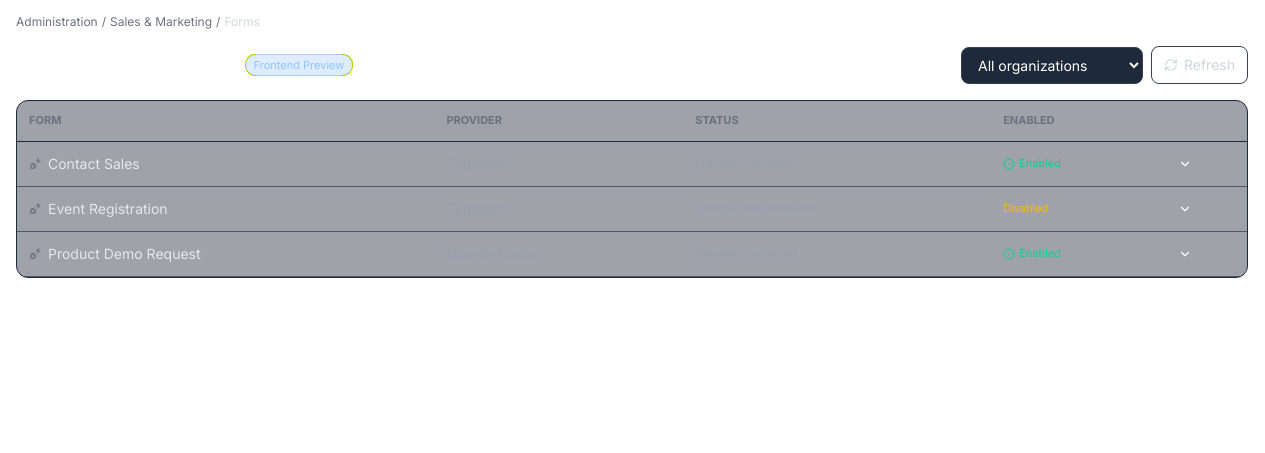
Test: SalesFormsIntegration › shows a clear reason when a required field is still unmapped, ahead of clicking Enable Form
The width and height of the screenshot is (1265, 453).
Click the row "Event Registration Typeform Configuration Required Disabled". click: [632, 209]
box: top-left (17, 186), bottom-right (1247, 231)
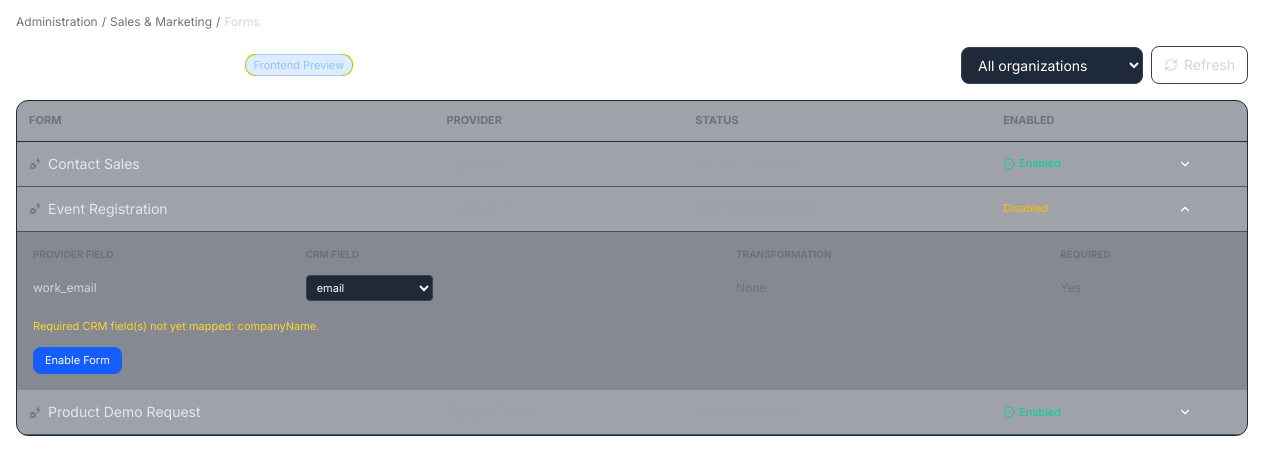
Now the text "Required CRM field(s) not yet mapped: companyName." is shown, box top-left (33, 319), bottom-right (319, 333)
Now the button "Enable Form" is shown, box top-left (33, 347), bottom-right (122, 374)
